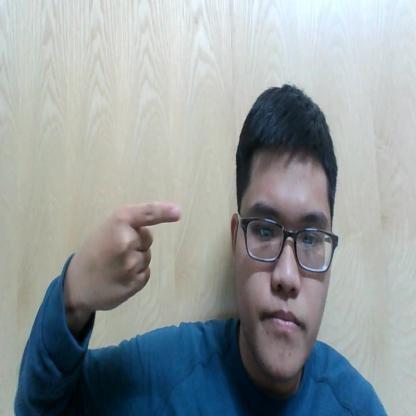left: (83, 194, 181, 310)
